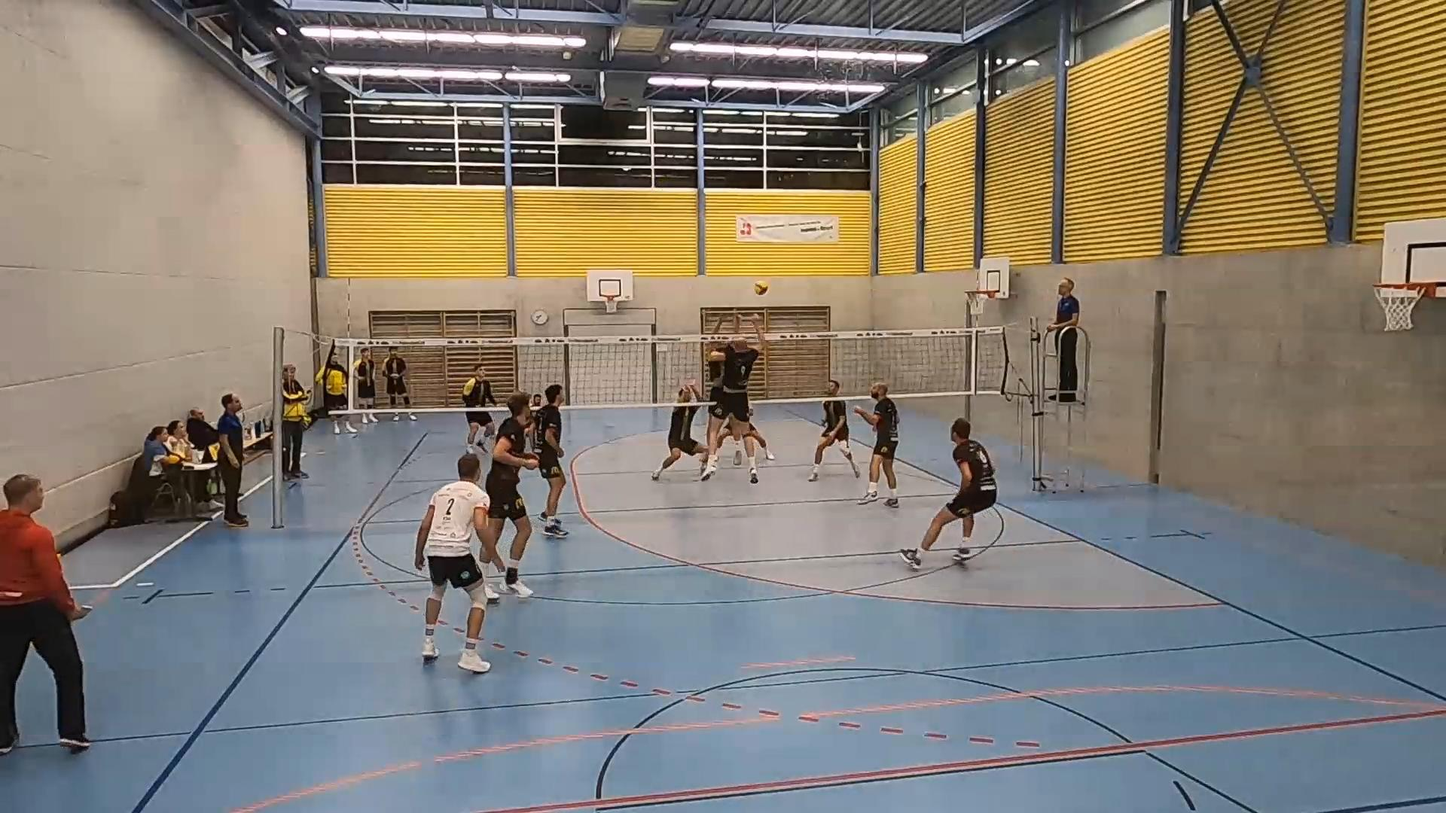Attack: (699, 315, 771, 476)
Block: (694, 311, 744, 389)
Player: (414, 453, 496, 673), (899, 418, 996, 568), (486, 393, 538, 597), (854, 382, 898, 507), (651, 381, 705, 480), (533, 384, 567, 537), (808, 379, 859, 481), (462, 364, 496, 450), (744, 409, 775, 461)
ball: (756, 282, 773, 293)
